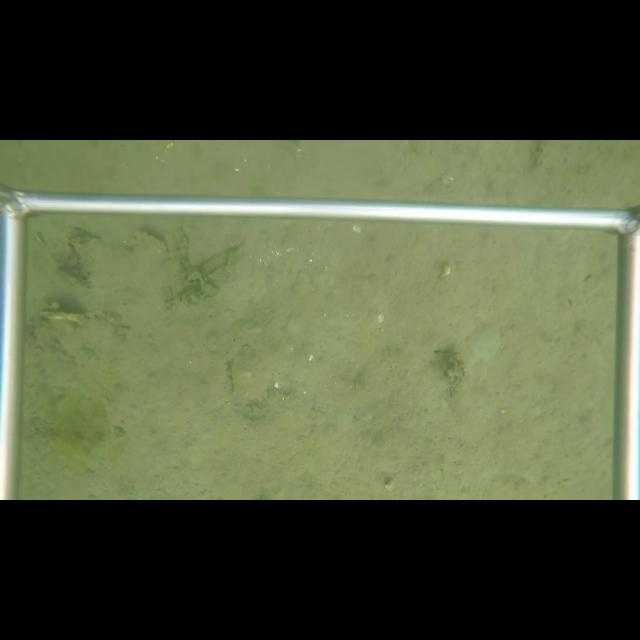Oyster-Closed: (228, 345, 270, 405), (127, 228, 171, 278)
